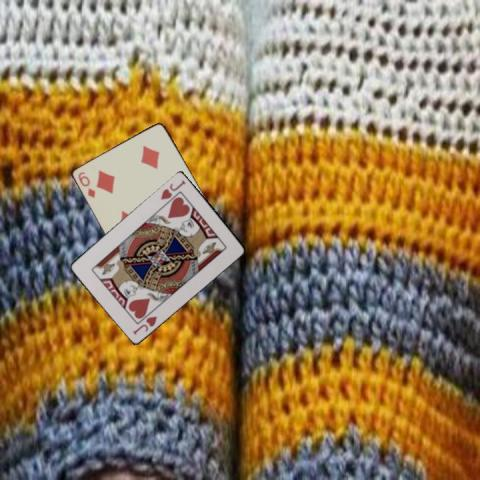6d: (75, 169, 97, 200)
Jh: (157, 176, 187, 200), (130, 313, 159, 336)
